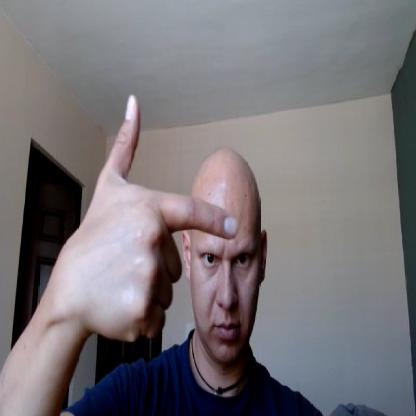G: (77, 89, 237, 342)
